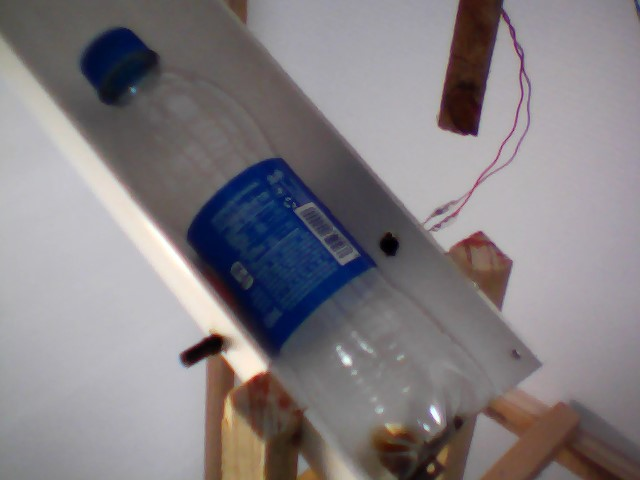plastico: (73, 24, 499, 480)
